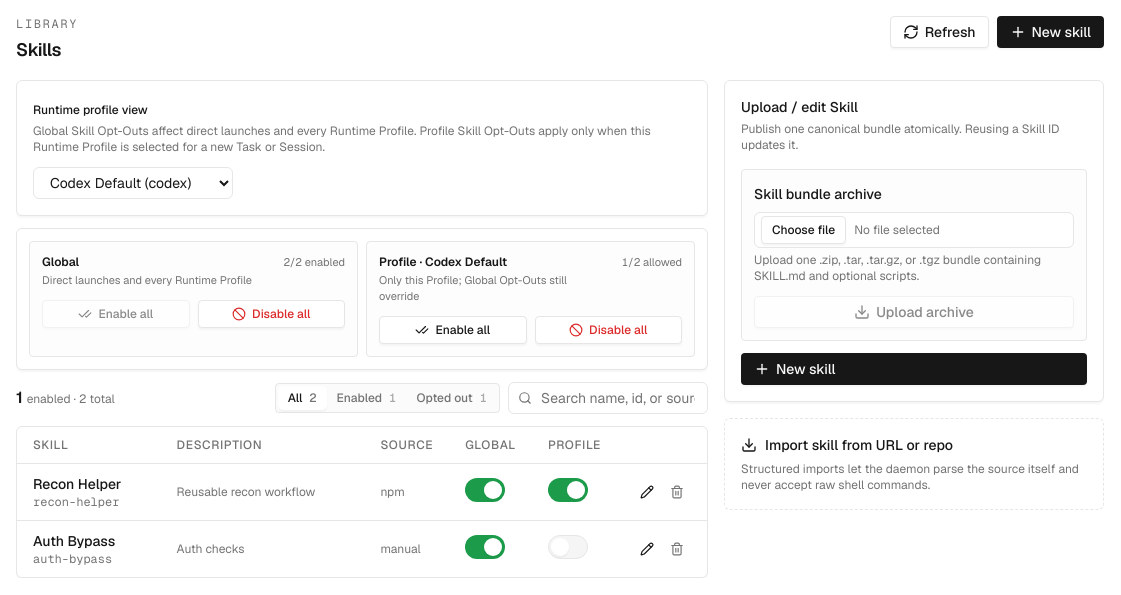
Test case: SkillsPage › filters the skill library by search and status
Check: the text "Recon Helper" is shown, box top-left (33, 475), bottom-right (121, 493)
Check: the text "Auth Bypass" is shown, box top-left (33, 532), bottom-right (115, 550)
Click the button "Opted out 1".
click(452, 398)  # box top-left (406, 386), bottom-right (497, 410)
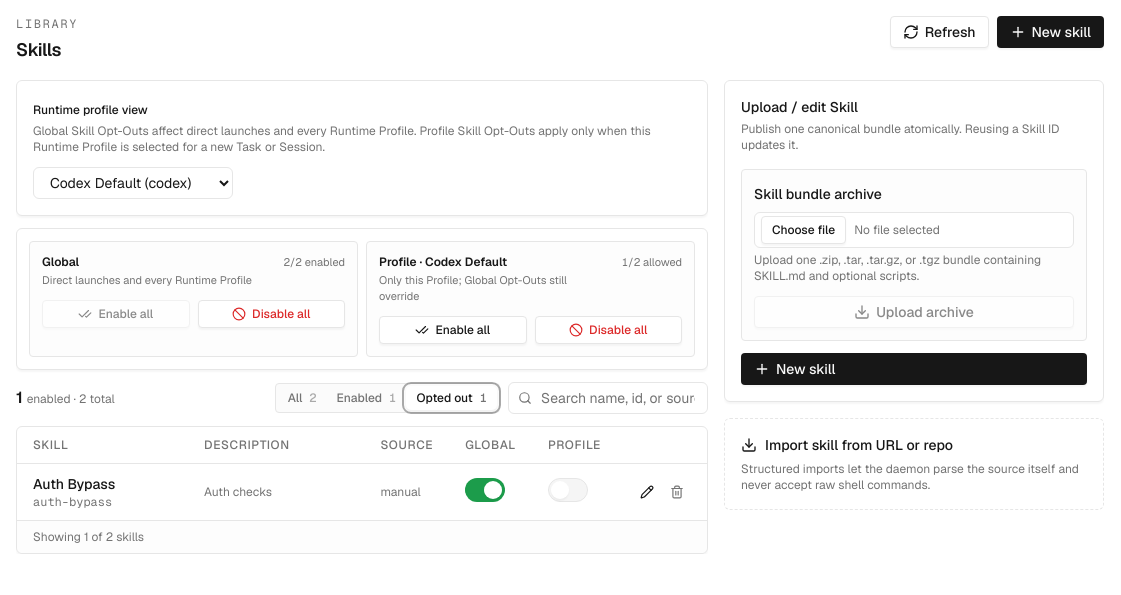
Check: the text "Auth Bypass" is shown, box top-left (33, 475), bottom-right (115, 493)
Check: the text "Recon Helper" is gone
Click the button "All 2".
click(302, 398)  # box top-left (278, 386), bottom-right (326, 410)
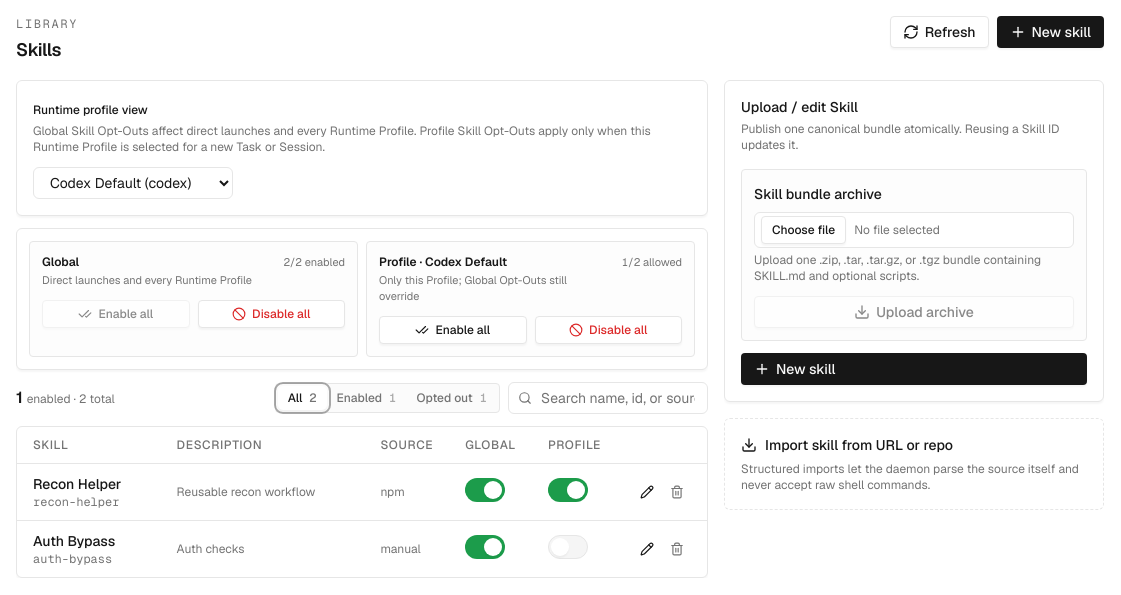
Type "recon" into the field named "Search skills".
click(608, 398); type("recon")  # box top-left (508, 382), bottom-right (708, 414)
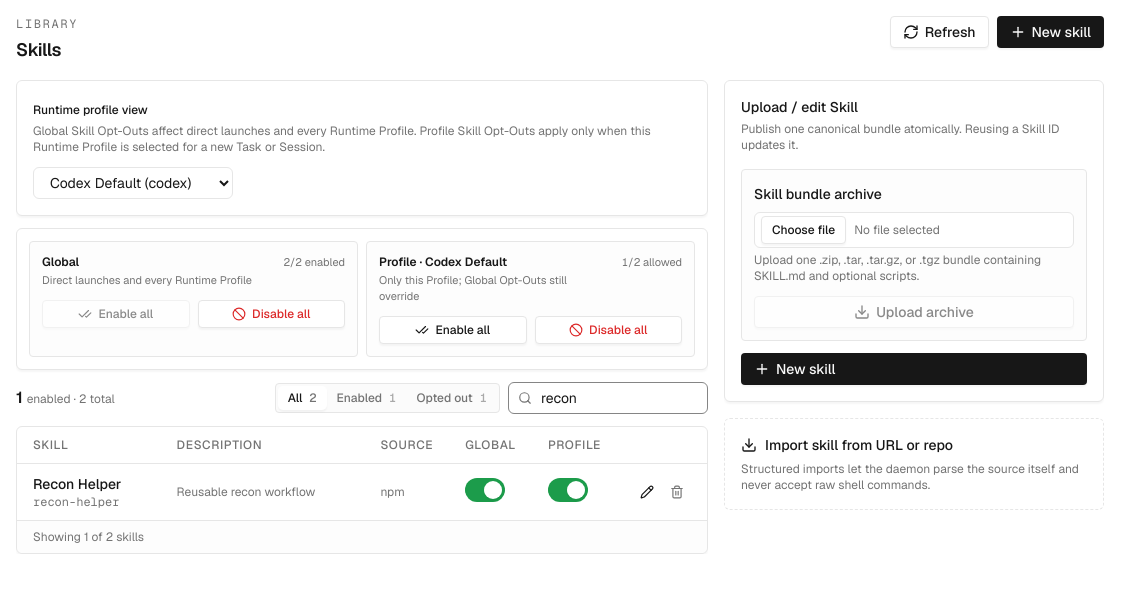
Check: the text "Recon Helper" is shown, box top-left (33, 475), bottom-right (121, 493)
Check: the text "Auth Bypass" is gone
